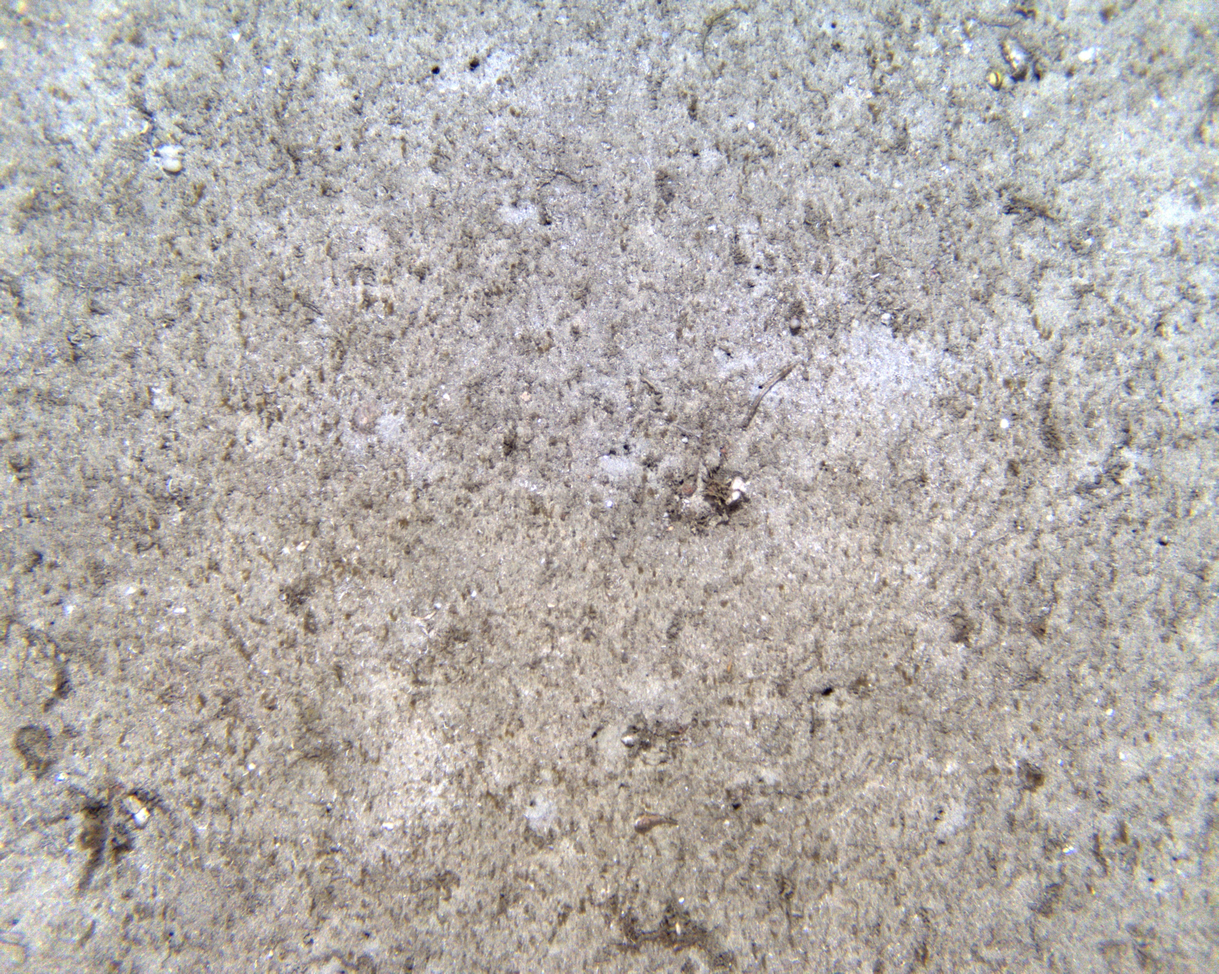Brachionichthyidae: (632, 810, 682, 836)
